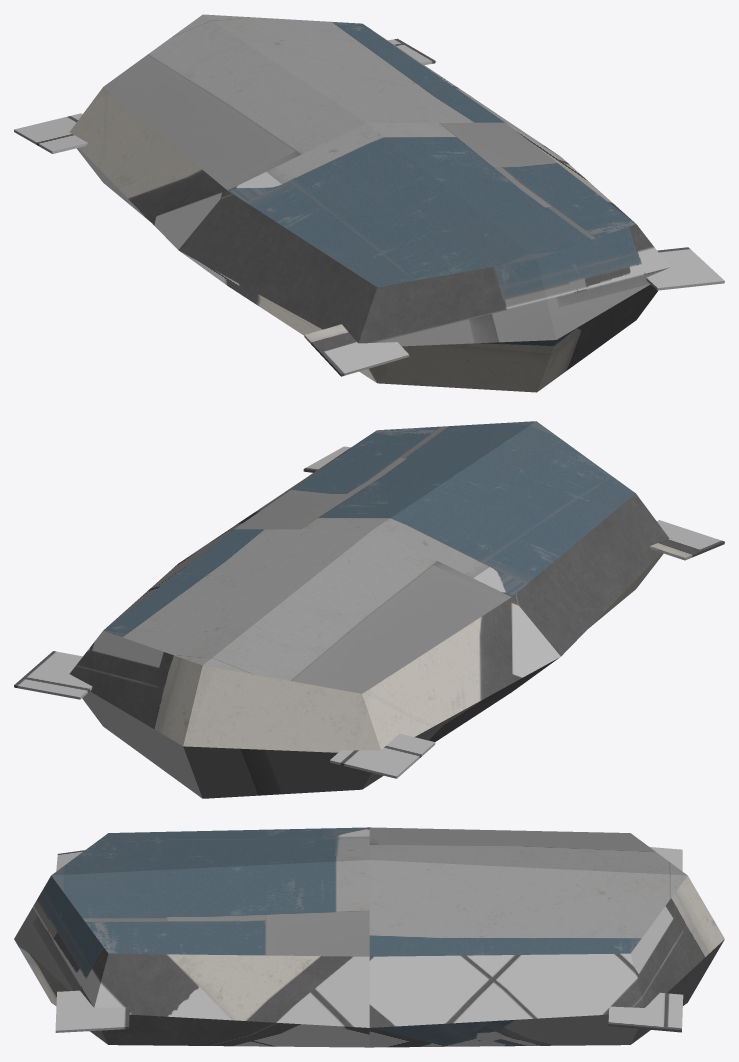
The model's file is Sandbag_3.fbx.
3 renders of one model, top to bottom at view 1: azimuth 30°, elevation 25°; view 2: azimuth 150°, elevation 25°; view 3: azimuth 270°, elevation 25°, orthographic. The views are drawn at different scales.
Parts seen in each view (by area): view 1: Plane.002; view 2: Plane.002; view 3: Plane.002.
Part boxes in pixels (<box>): Plane.002: <box>14,14,724,392</box>; Plane.002: <box>14,421,724,798</box>; Plane.002: <box>14,827,724,1047</box>.
Size of the model in its own units: 56.62 by 22.88 by 95.16.
